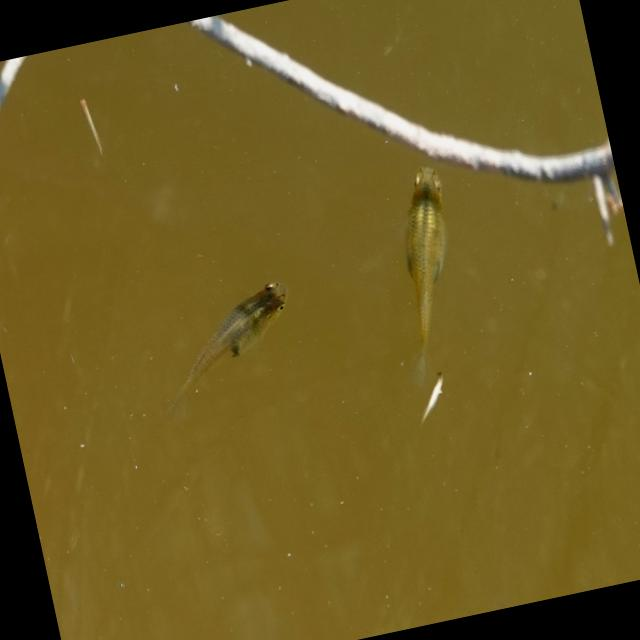Sivrisinek Baligi: (130, 274, 310, 426), (382, 167, 479, 366)
